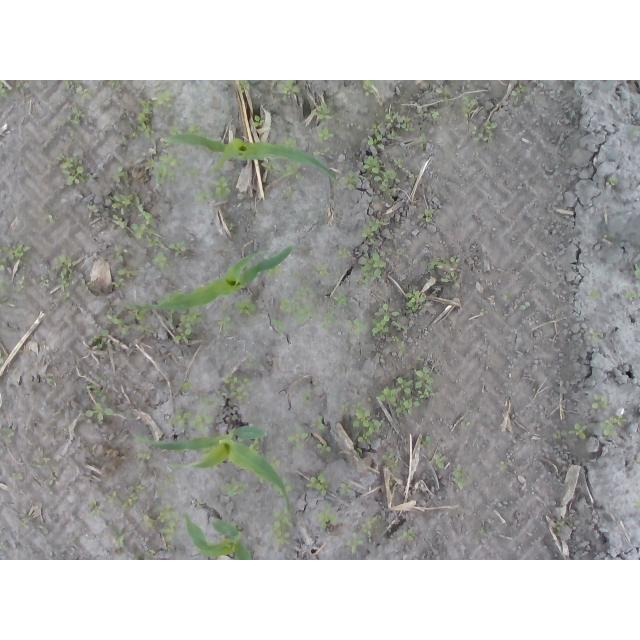Maize: (136, 426, 292, 517), (126, 244, 294, 312), (161, 130, 340, 187), (182, 512, 254, 560)
Weeds: (364, 156, 401, 198), (145, 152, 185, 185), (351, 402, 382, 444), (167, 308, 201, 345), (56, 152, 93, 186), (215, 371, 254, 401), (279, 298, 318, 327), (53, 254, 75, 300), (157, 503, 182, 541), (357, 253, 387, 284), (271, 507, 294, 546), (371, 304, 399, 335), (137, 99, 156, 138), (414, 366, 436, 399), (86, 396, 114, 421), (361, 218, 388, 243), (106, 192, 134, 216), (469, 121, 498, 144), (136, 192, 156, 225), (63, 80, 93, 102), (600, 415, 629, 437), (219, 478, 249, 499), (120, 486, 145, 511), (316, 505, 339, 531), (396, 397, 420, 419), (112, 269, 139, 288), (167, 407, 190, 429), (104, 314, 128, 335), (59, 109, 85, 128), (306, 475, 328, 497), (191, 411, 213, 433), (379, 388, 402, 409), (0, 244, 30, 260), (288, 428, 309, 450), (428, 256, 461, 270), (278, 80, 301, 100), (235, 298, 258, 317), (407, 291, 426, 314), (131, 223, 156, 240), (345, 318, 367, 337), (213, 176, 231, 198), (345, 532, 363, 553), (452, 465, 466, 492), (511, 85, 529, 105), (312, 102, 333, 119), (461, 95, 477, 117), (153, 252, 172, 270), (272, 479, 292, 496), (342, 170, 359, 190), (382, 452, 398, 473), (281, 164, 303, 179), (155, 89, 173, 107), (569, 423, 587, 441), (592, 394, 611, 411), (396, 377, 413, 396), (360, 516, 376, 536), (441, 272, 461, 288), (322, 311, 339, 329), (429, 452, 448, 468), (296, 285, 315, 301), (186, 123, 206, 138), (93, 331, 108, 350), (169, 241, 188, 256), (199, 396, 220, 409), (436, 88, 452, 105), (89, 500, 105, 517), (368, 134, 385, 150), (587, 328, 605, 343), (400, 116, 416, 132), (310, 416, 327, 431), (114, 167, 128, 185), (273, 320, 287, 337), (261, 161, 279, 174), (113, 529, 125, 548), (1, 427, 16, 442), (217, 315, 232, 330), (132, 307, 148, 321), (138, 513, 154, 527), (318, 128, 335, 141), (268, 456, 280, 474), (266, 266, 284, 278), (418, 434, 432, 449), (136, 452, 151, 466), (113, 245, 124, 264), (418, 209, 434, 222), (363, 80, 375, 97), (400, 529, 417, 541), (112, 215, 125, 230), (248, 439, 261, 454), (386, 113, 399, 128), (300, 388, 312, 404), (196, 191, 213, 202), (313, 146, 330, 157), (338, 482, 352, 495), (201, 445, 214, 459), (145, 236, 160, 248), (87, 204, 99, 219), (317, 442, 332, 454), (315, 264, 330, 276), (88, 383, 101, 396), (337, 248, 350, 261), (237, 80, 251, 92), (0, 80, 8, 101), (157, 292, 171, 304), (333, 294, 347, 306), (282, 135, 296, 147), (167, 125, 182, 136), (418, 133, 428, 149), (252, 115, 264, 128), (387, 131, 401, 142), (137, 325, 153, 334), (393, 320, 407, 330), (179, 381, 193, 391), (588, 289, 600, 300), (81, 278, 92, 290), (551, 430, 565, 439), (605, 177, 617, 187), (106, 490, 116, 502), (42, 214, 55, 223), (0, 257, 8, 271), (390, 477, 398, 491), (399, 340, 406, 356), (109, 80, 120, 90), (499, 461, 510, 471), (340, 403, 350, 414), (255, 473, 265, 484), (187, 167, 197, 177), (394, 157, 403, 168), (371, 124, 382, 133), (623, 293, 637, 300), (633, 263, 640, 277), (16, 280, 24, 292), (556, 520, 565, 530), (519, 302, 529, 311), (164, 474, 174, 483), (246, 360, 256, 369), (429, 110, 439, 119), (0, 296, 8, 307), (604, 233, 616, 240), (40, 277, 48, 287), (49, 475, 56, 486), (502, 290, 510, 299), (129, 132, 139, 139), (460, 421, 471, 427), (164, 544, 172, 552), (14, 80, 22, 88), (409, 173, 419, 179), (391, 335, 399, 342), (417, 108, 424, 116), (356, 448, 362, 457), (0, 279, 4, 291), (228, 222, 234, 230), (162, 142, 171, 147), (287, 190, 293, 197), (157, 491, 163, 498), (1, 352, 4, 365), (415, 355, 421, 361)
